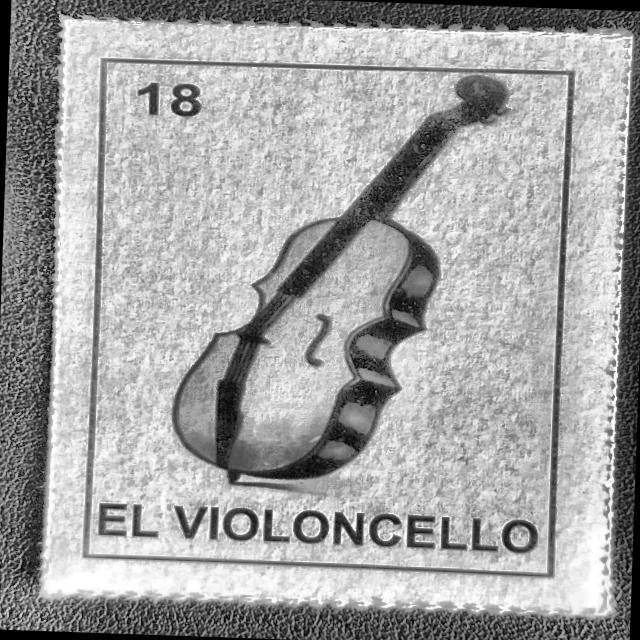El Violoncello: (62, 32, 598, 594)
